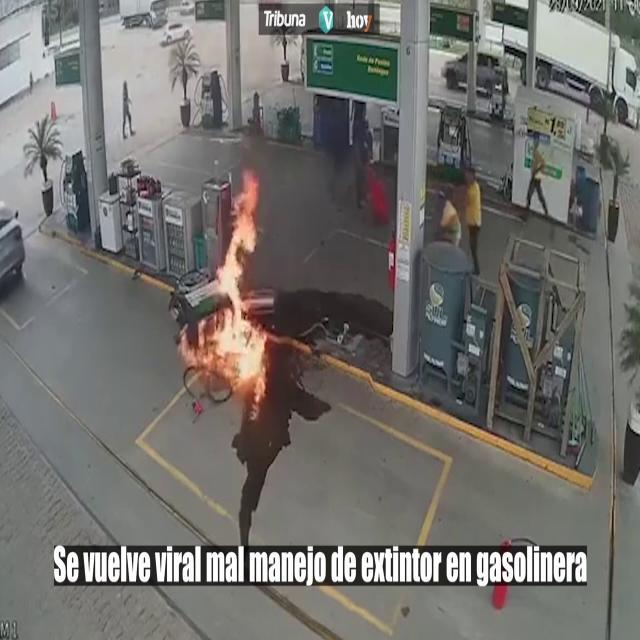Fire: (190, 160, 274, 402)
